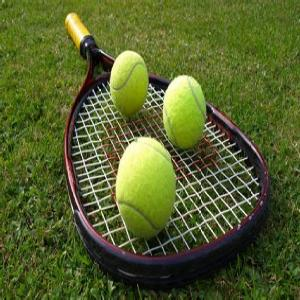Tennis: (112, 130, 178, 244), (162, 71, 209, 155), (108, 48, 147, 114)
